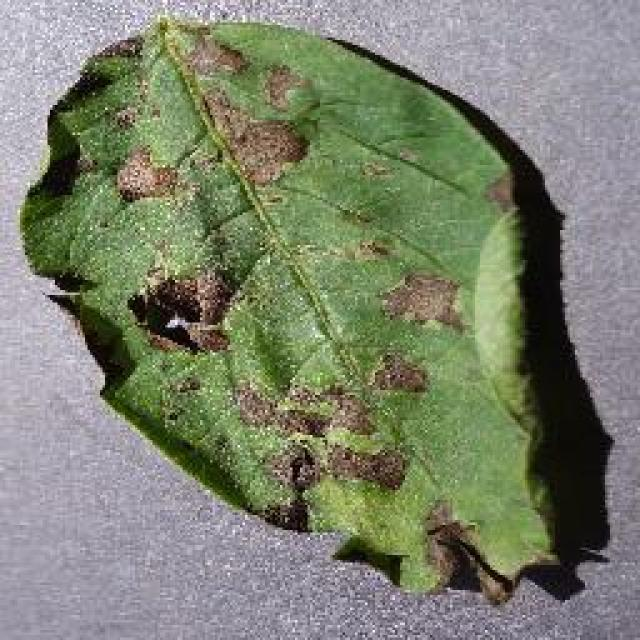Potato___Early_blight: (18, 11, 564, 606)
